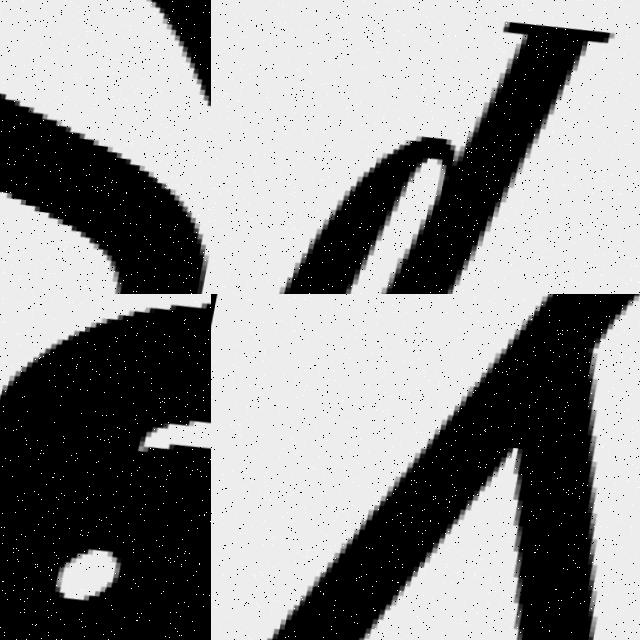G: (0, 294, 211, 640)
P: (282, 22, 616, 294)
S: (0, 0, 211, 294)
Y: (250, 294, 640, 640)
